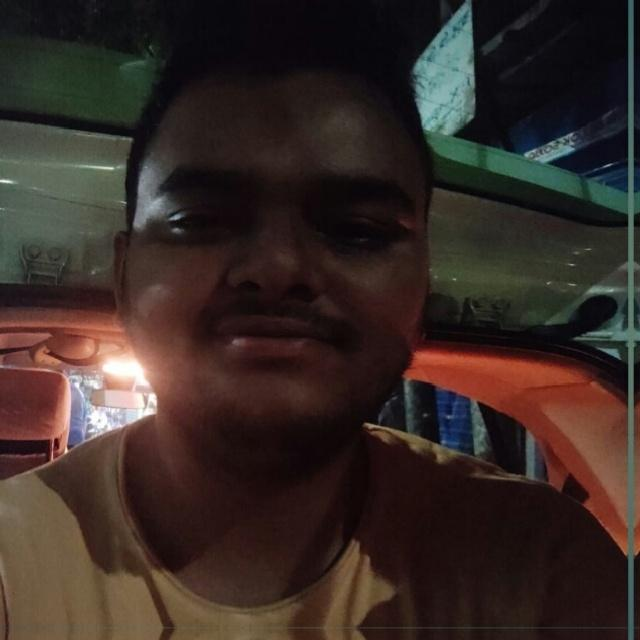Happy: (113, 122, 420, 468)
